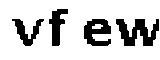e: (80, 16, 112, 51)
f: (47, 4, 70, 51)
v: (9, 17, 44, 50)
w: (114, 14, 160, 51)
